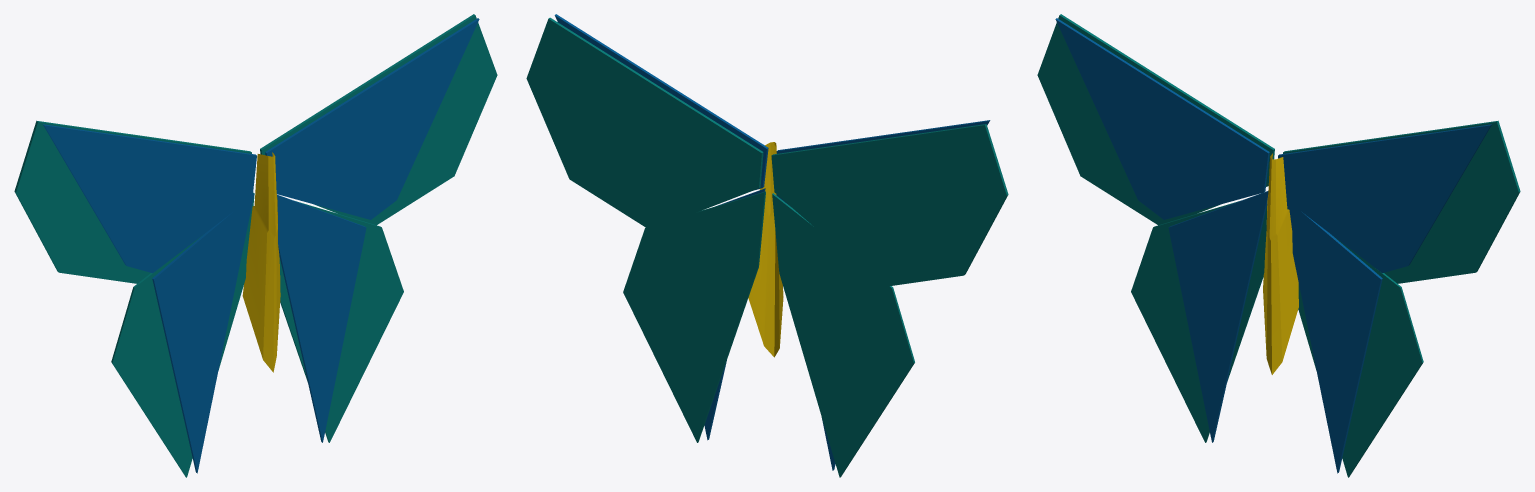
Rendered from origami_papillon.fbx.
3 views of the same model, side by side, from view 1: azimuth 30°, elevation 25°; view 2: azimuth 150°, elevation 25°; view 3: azimuth 330°, elevation 25° (orthographic).
Visible parts, largest first — view 1: aile1 (×2), aile4 (×2), aile2 (×2), aile5 (×2), corps; view 2: aile2 (×2), aile5 (×2), corps, aile1 (×2), aile4; view 3: aile1 (×2), aile4 (×2), aile2 (×2), aile5 (×2), corps.
Part boxes in pixels (left/top/right/bottom): aile1 (×2): left=43, top=18, right=479, bottom=273; aile4 (×2): left=152, top=193, right=366, bottom=473; aile2 (×2): left=14, top=14, right=497, bottom=283; aile5 (×2): left=111, top=192, right=403, bottom=477; corps: left=242, top=152, right=280, bottom=372; aile2 (×2): left=526, top=17, right=1008, bottom=286; aile5 (×2): left=623, top=191, right=914, bottom=477; corps: left=748, top=142, right=783, bottom=357; aile1 (×2): left=554, top=14, right=990, bottom=190; aile4: left=704, top=188, right=765, bottom=440; aile1 (×2): left=1055, top=18, right=1491, bottom=273; aile4 (×2): left=1168, top=191, right=1382, bottom=473; aile2 (×2): left=1037, top=14, right=1520, bottom=283; aile5 (×2): left=1131, top=201, right=1423, bottom=477; corps: left=1263, top=153, right=1298, bottom=374.
Size of the model in its own units: 15.94 by 12.37 by 0.8843.
